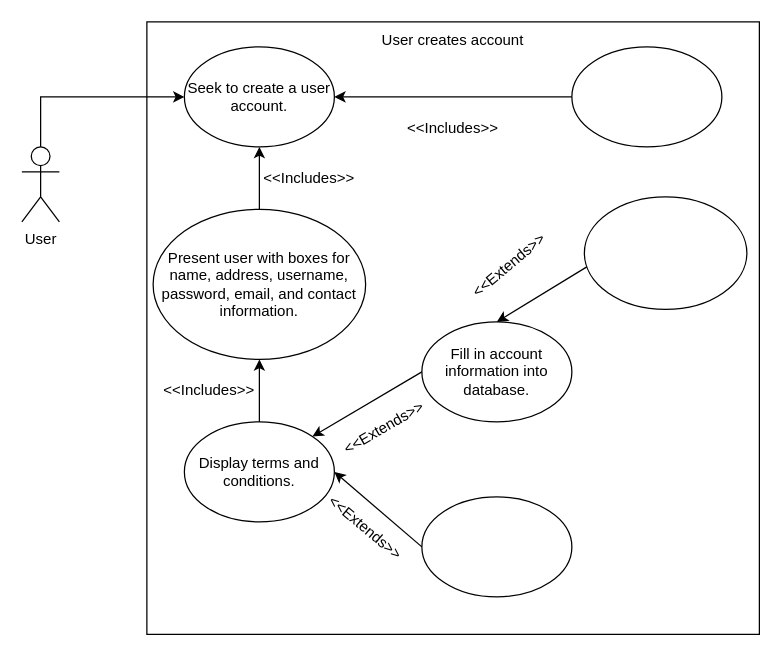
Image size: 781x656. Some labels were removed from this diagram. The shapes that lost their labels are listed below. From the top down, each one's centre as x and y in pixels, then its label:
At point 646,96: "System allocates space in database for account creation.".
At point 665,252: "Transfer user to dashboard and present updated info.".
At point 496,546: "Cancel if terms and conditions aren't checked.".
